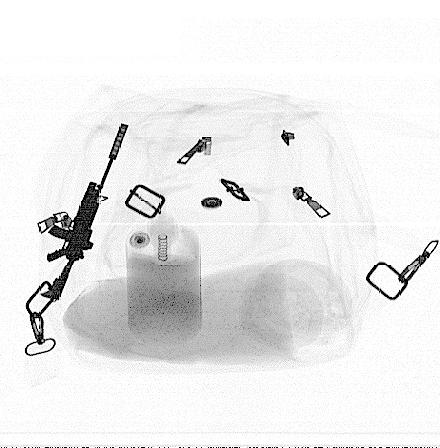Gun: (39, 121, 130, 301)
